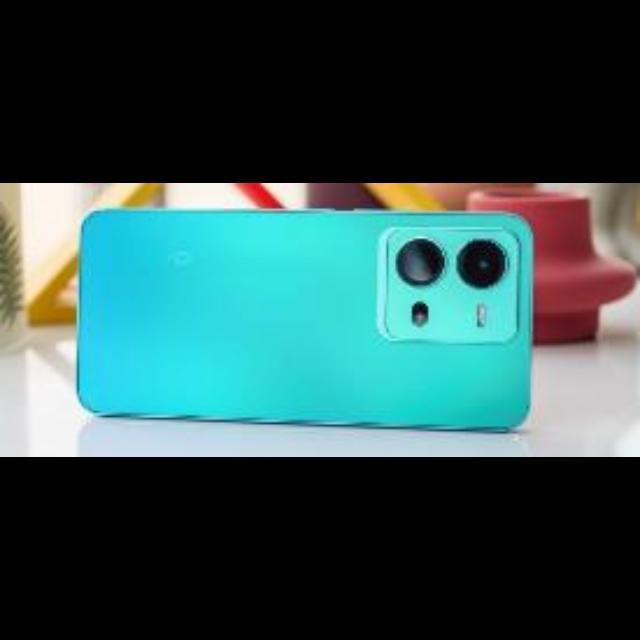Phone: (79, 208, 528, 432)
